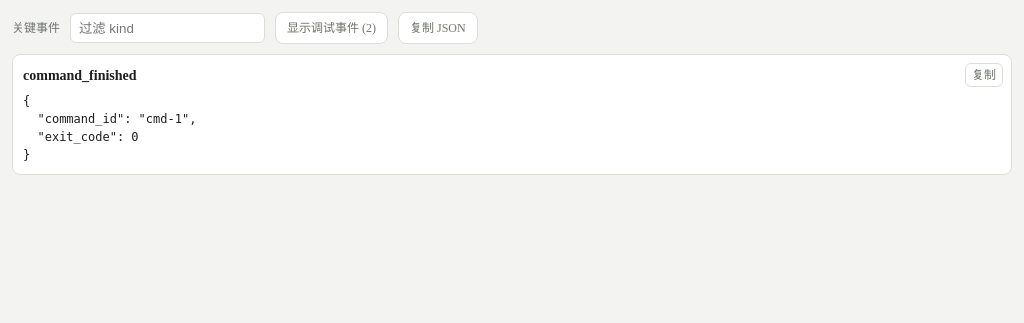
Test: EventTimeline › compacts command output events
This screenshot has width=1024, height=323.
Click the button "显示调试事件 (2)" at point(332, 28), box [275,12,388,44]
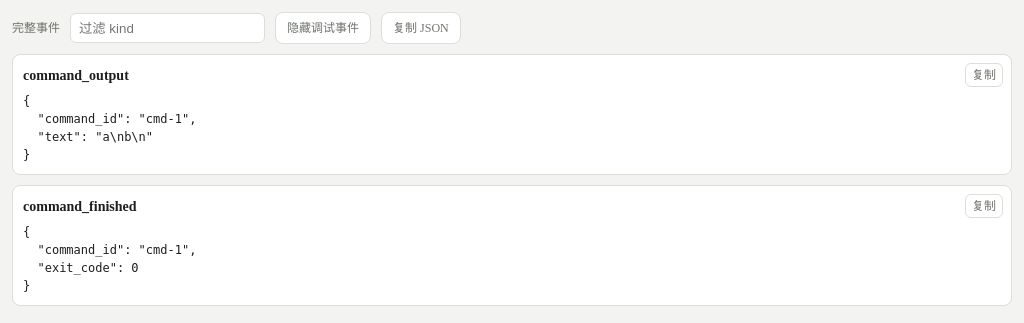
Expected: the text "2 条" is shown, [980,65,1001,86]
Result: the text "command_output" is shown once at [23,65,1001,86]
Result: the text "{ \"command_id\": \"cmd-1\", \"text\": \"a\\nb\\n\" }" is shown at [23,94,196,162]
